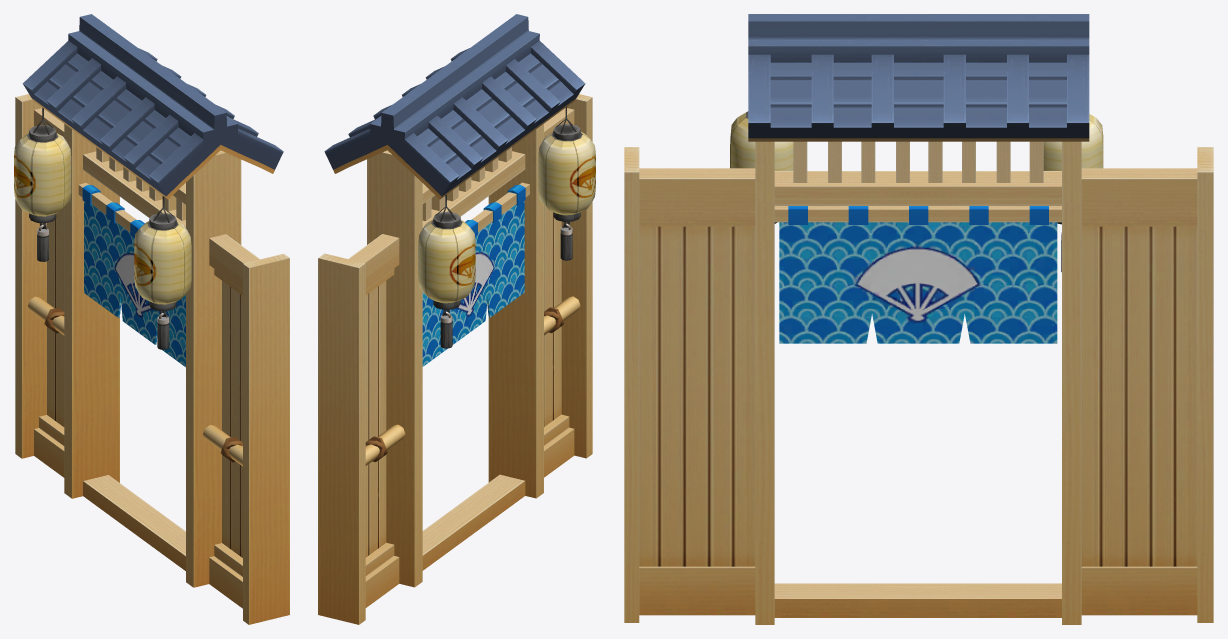
File: my_hotsprings_01_partition_02.glb
3 renders of one model, left to right at view 1: azimuth 30°, elevation 25°; view 2: azimuth 150°, elevation 25°; view 3: azimuth 270°, elevation 25°, orthographic. The views are drawn at different scales.
Parts seen in each view (by area): view 1: my_hotsprings_01_partition_02; view 2: my_hotsprings_01_partition_02; view 3: my_hotsprings_01_partition_02.
Part boxes in pixels (bbox=[...]): my_hotsprings_01_partition_02: bbox=[14, 14, 289, 624]; my_hotsprings_01_partition_02: bbox=[318, 14, 595, 624]; my_hotsprings_01_partition_02: bbox=[624, 14, 1213, 624].
Size of the model in its own units: 0.0058 by 0.0187 by 0.0168.
Materials: 1 (1 with a texture image).
